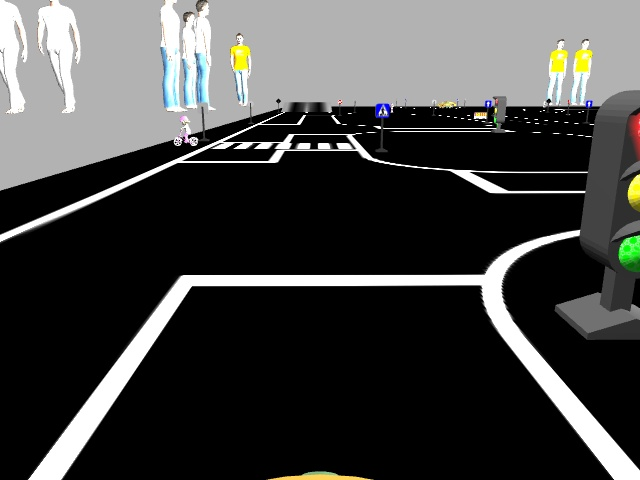Crosswalk: (376, 102, 390, 118)
Pedestrian: (172, 115, 197, 146)
TrafficLight: (582, 90, 639, 267)
